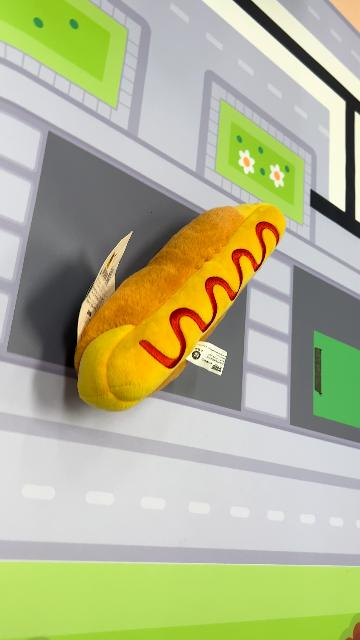hotdog: (73, 200, 287, 414)
